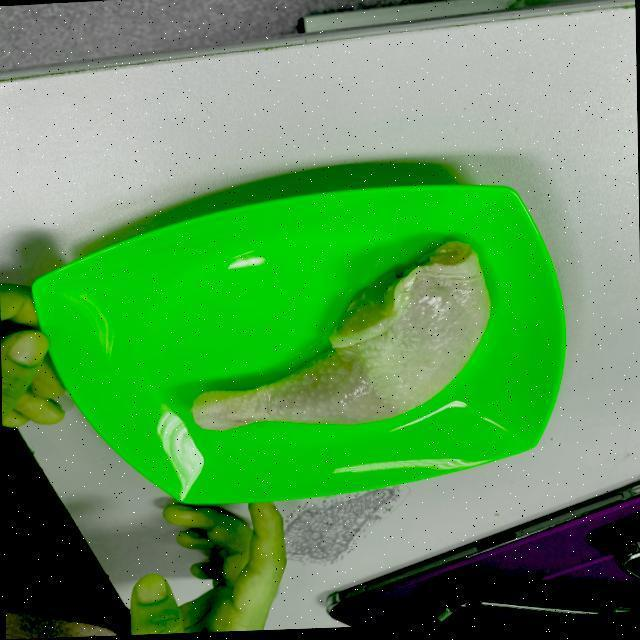quater: (178, 245, 520, 432)
